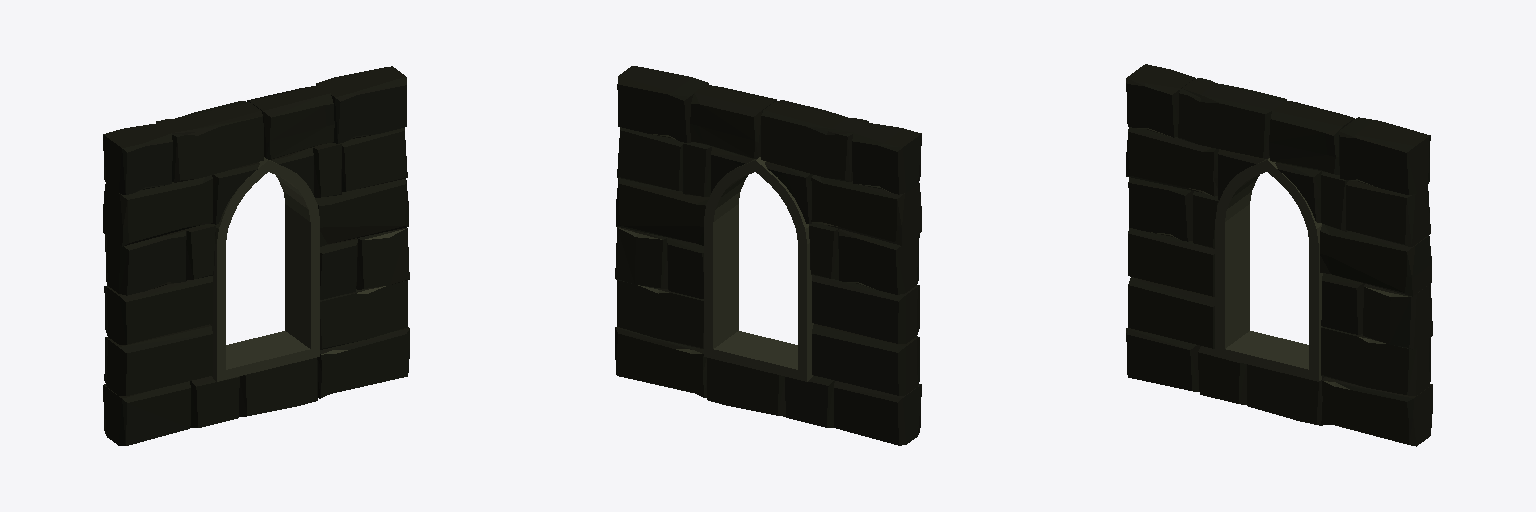
Rendered from Window_Open.obj.
3 renders of one model, left to right at view 1: azimuth 30°, elevation 25°; view 2: azimuth 150°, elevation 25°; view 3: azimuth 330°, elevation 25°, orthographic.
Parts seen in each view (by area): view 1: Window_Open_Cube.647; view 2: Window_Open_Cube.647; view 3: Window_Open_Cube.647.
Boxes of the visible parts, x1=… form: Window_Open_Cube.647: x1=103, y1=66, x2=409, y2=445; Window_Open_Cube.647: x1=615, y1=66, x2=921, y2=445; Window_Open_Cube.647: x1=1126, y1=64, x2=1432, y2=446.
Bounding box in the file's own units: 1.99 × 1.99 × 0.3029.